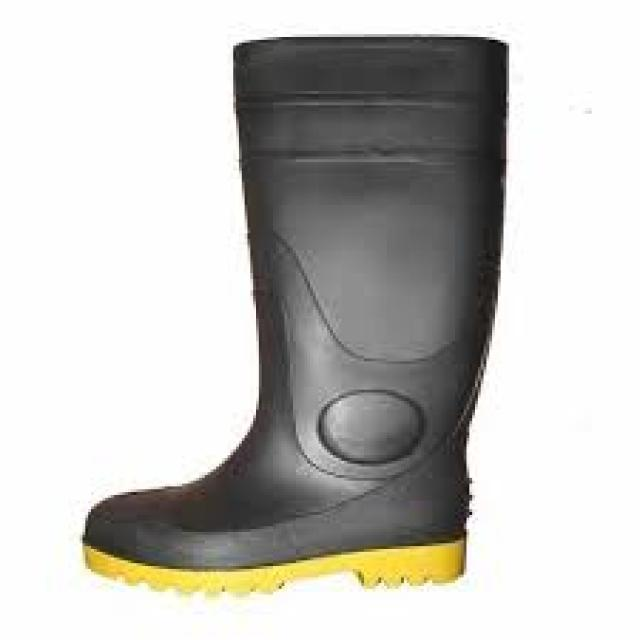shoes: (84, 38, 508, 591)
